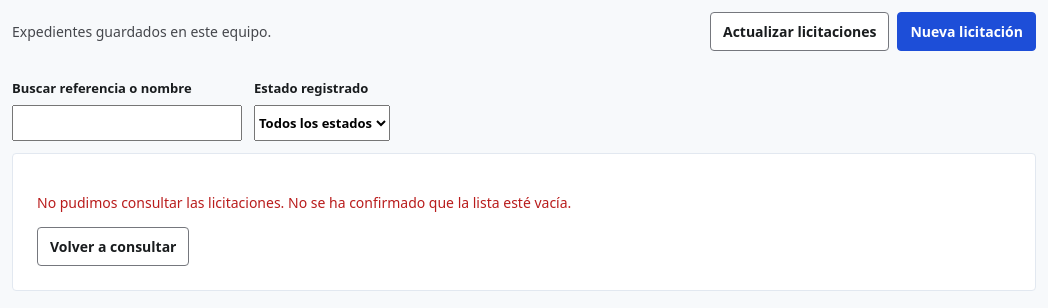
Test case: list error remains recoverable and cannot masquerade as empty installation
Expected: the message is shown, top-left (12, 152), bottom-right (1036, 290)
Click the button "Volver a consultar" at (113, 246), box top-left (37, 226), bottom-right (190, 266)
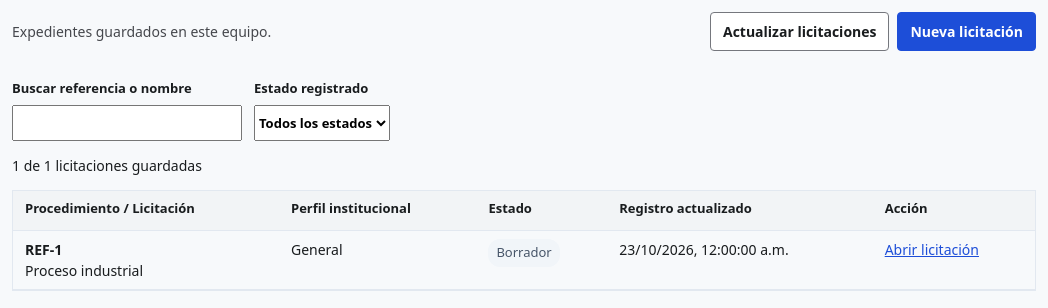
Result: the text "Proceso industrial" is shown at top-left (25, 261), bottom-right (143, 280)
